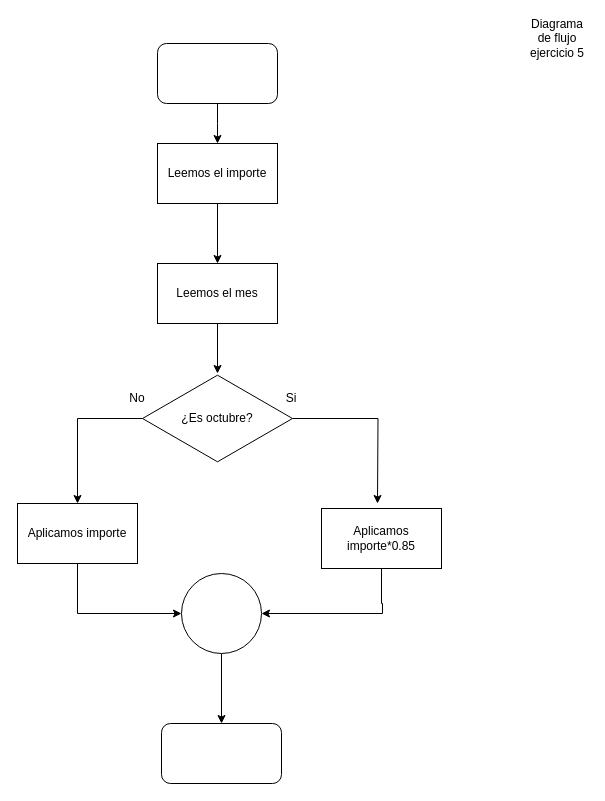
This 605x801 diagram has some shape labels left out. The shapes that lost their labels are listed below. From the top down, each one's centre as x and y in pixels, then its label:
the point at 217,73: Inicio
the point at 221,753: Fin
